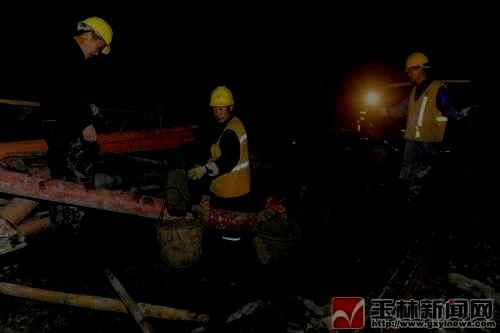helmet: (75, 16, 113, 58), (208, 86, 234, 123), (405, 52, 430, 84)
